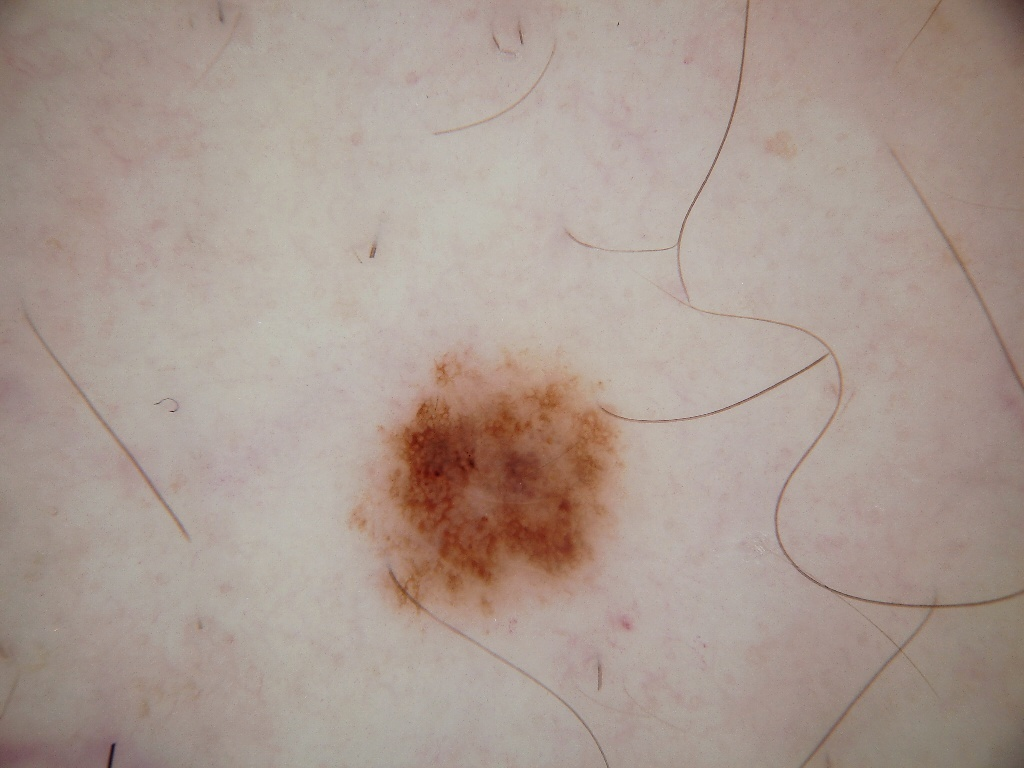Detected Lesion: (339, 339, 636, 635)
